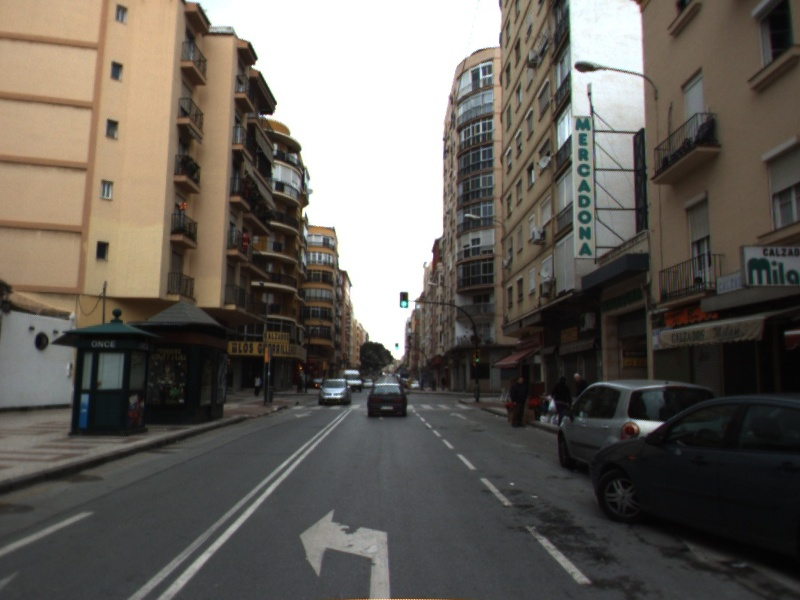LEFT: (297, 506, 391, 600)
STRAIGHT: (448, 411, 468, 421)
